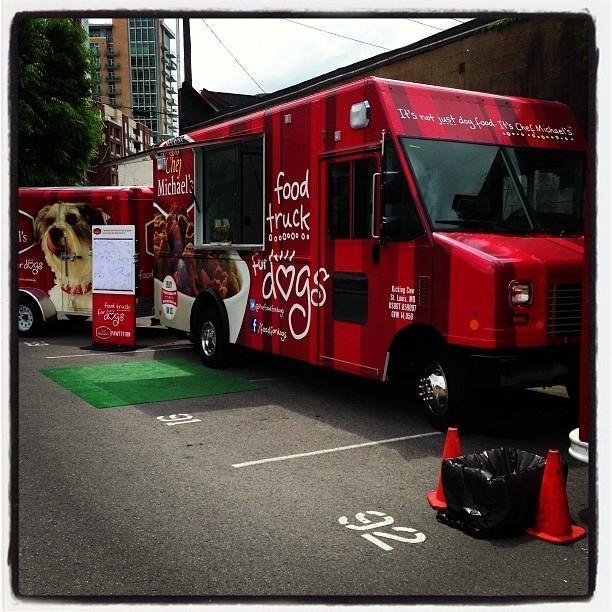truck: (146, 76, 593, 436), (18, 194, 148, 328)
